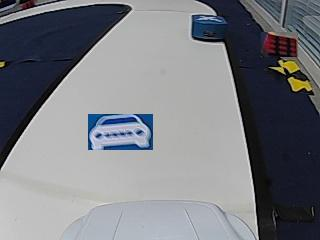prop: (192, 15, 228, 42)
